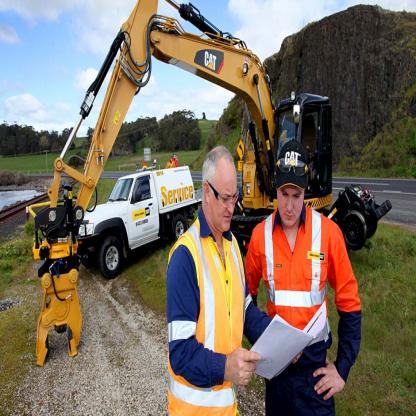person: (257, 129, 374, 415), (156, 129, 257, 415)
